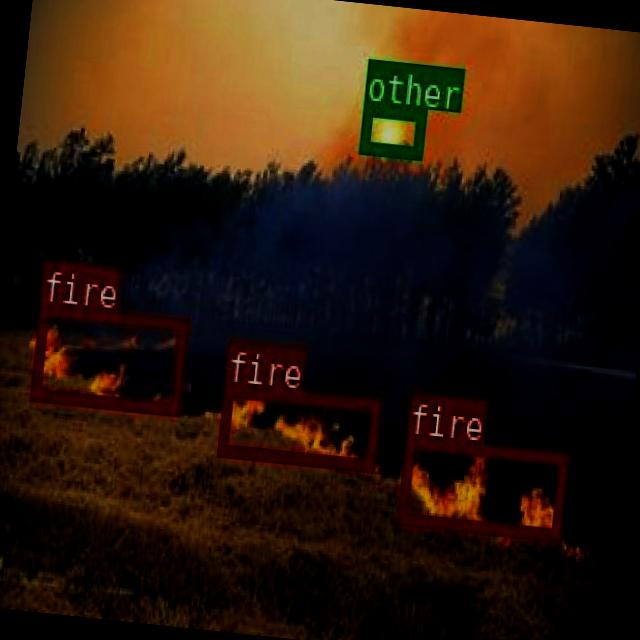fire: (396, 434, 567, 538), (29, 302, 186, 412), (217, 384, 380, 469)
